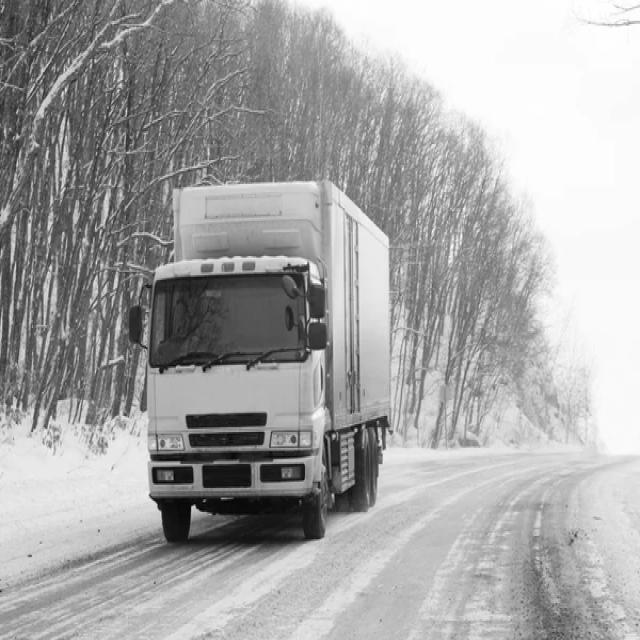Truck: (147, 180, 392, 542)
